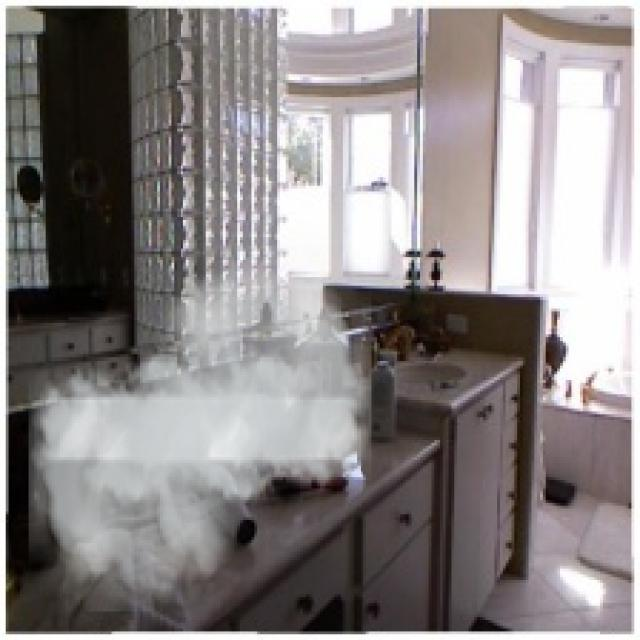smoke: (29, 246, 372, 611)
